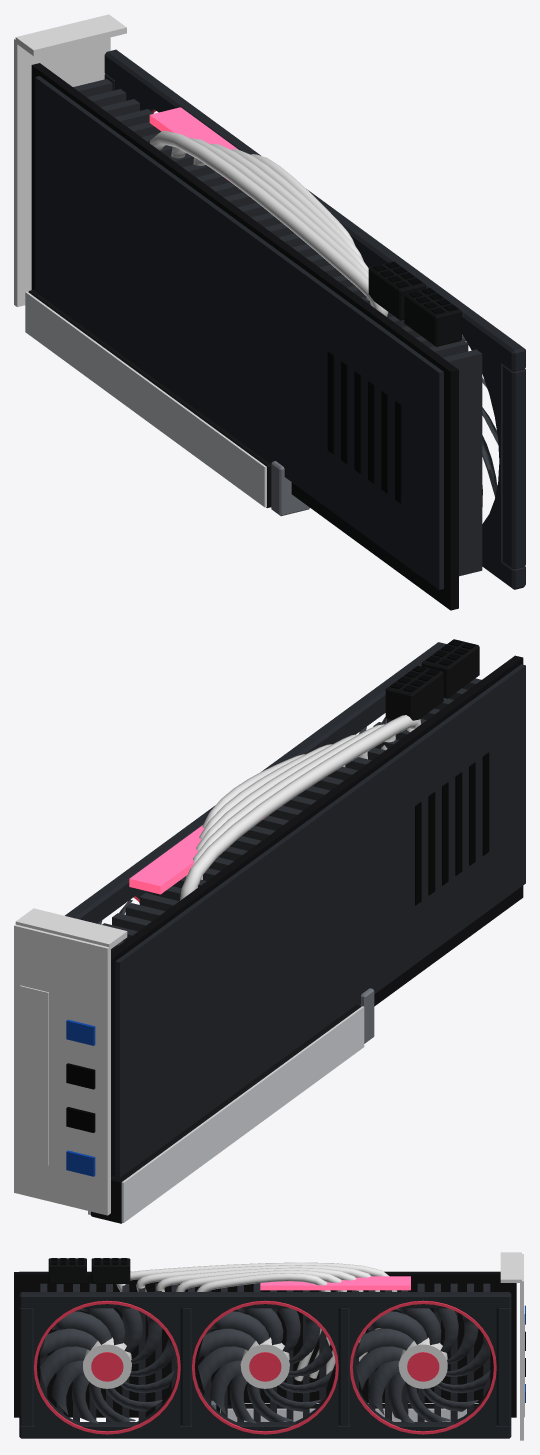
The model's file is hwm_gpu_rtx3090.glb.
3 renders of one model, top to bottom at view 1: azimuth 30°, elevation 25°; view 2: azimuth 150°, elevation 25°; view 3: azimuth 270°, elevation 25°, orthographic. The views are drawn at different scales.
Visible parts, largest first — view 1: Card_0, Slot_0; view 2: Card_0, Slot_0; view 3: Card_0, Rotor_X_0, Rotor_X_2, Rotor_X_1, Slot_0.
Boxes of the visible parts, box(x1,y1,x2,y2) form: Card_0: box(14, 14, 525, 610); Slot_0: box(25, 289, 309, 516); Card_0: box(14, 639, 525, 1215); Slot_0: box(88, 988, 374, 1223); Card_0: box(14, 1252, 525, 1440); Rotor_X_0: box(356, 1308, 490, 1423); Rotor_X_2: box(40, 1308, 174, 1423); Rotor_X_1: box(198, 1308, 332, 1423); Slot_0: box(211, 1400, 477, 1421).
Size of the model in its own units: 0.0375 by 0.1076 by 0.2852.
